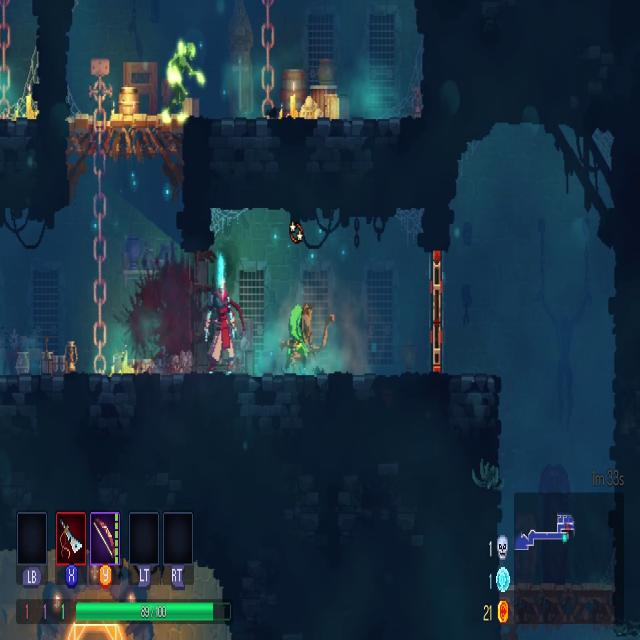agents: (203, 256, 246, 376)
enemy_archer: (280, 301, 338, 374)
enemy_green_puncher: (160, 36, 207, 130)
